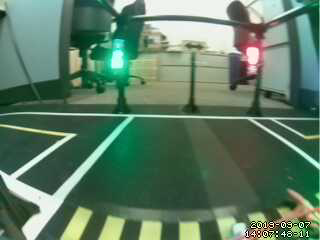Left_Right_sign: (182, 39, 212, 50)
Traffic_light_green: (112, 39, 123, 70)
Traffic_light_red: (246, 48, 260, 77)
